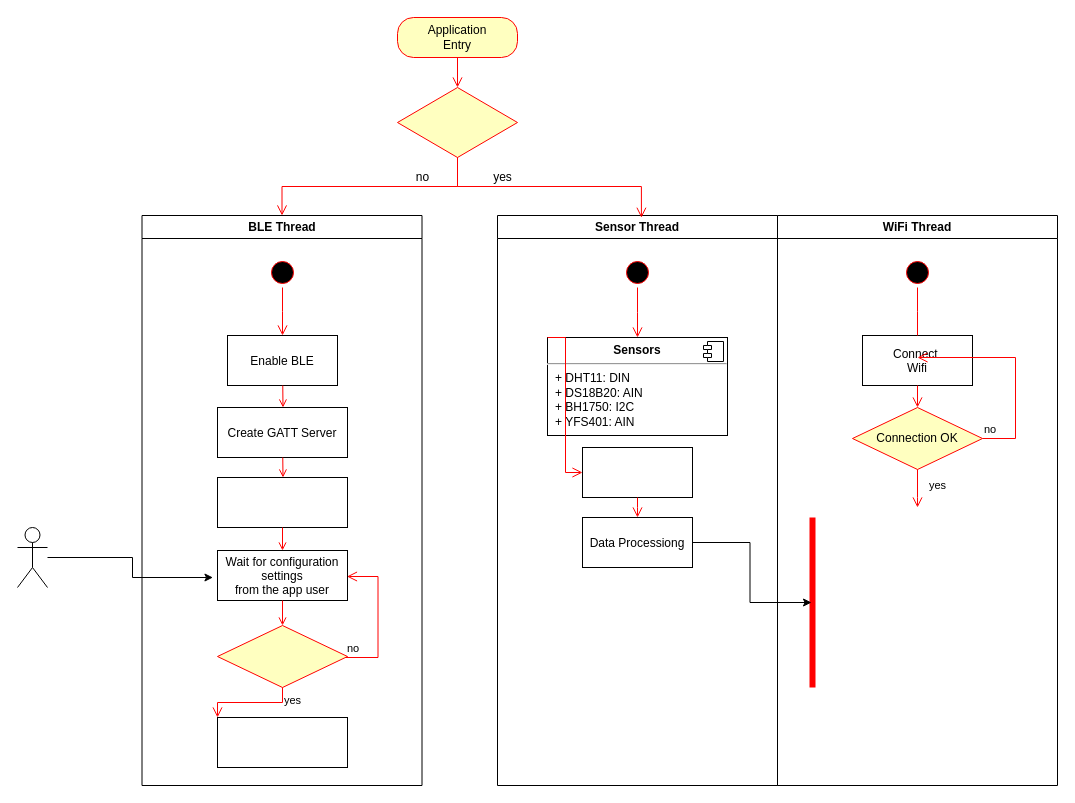
Some shapes in this 1075 by 803 pixel diagram are drawn without their labels. Each missing label, with the centre of its shape:
Configuration OK: the point at 282,656
Device Configuration: the point at 457,122
Device Reset: the point at 282,742
Sensor Data Collection: the point at 637,472
Start Adv: the point at 282,502
User: the point at 32,557
